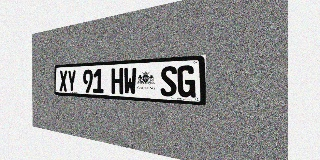1: (93, 69, 103, 93)
9: (83, 69, 93, 93)
G: (177, 65, 195, 98)
H: (111, 68, 123, 94)
S: (160, 66, 177, 97)
W: (124, 67, 136, 95)
X: (59, 70, 67, 92)
Y: (67, 70, 76, 92)
